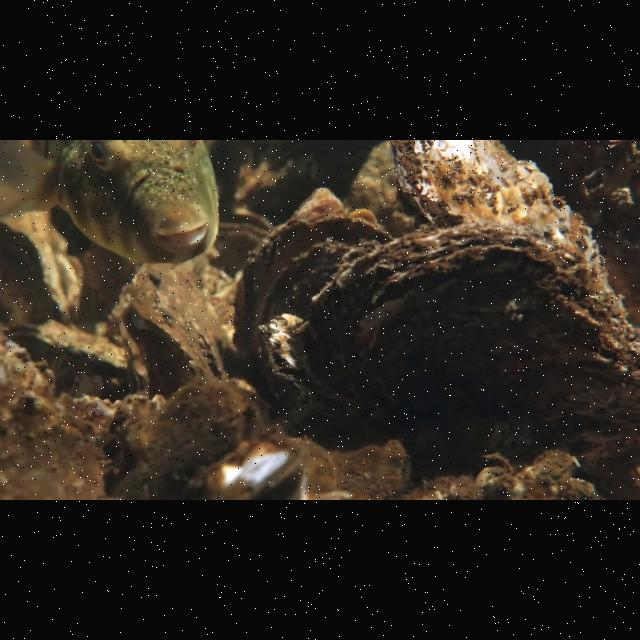Oyster-Closed: (299, 220, 631, 448), (230, 210, 402, 449), (384, 140, 622, 292), (132, 291, 233, 393), (6, 321, 142, 382), (3, 221, 76, 320)
